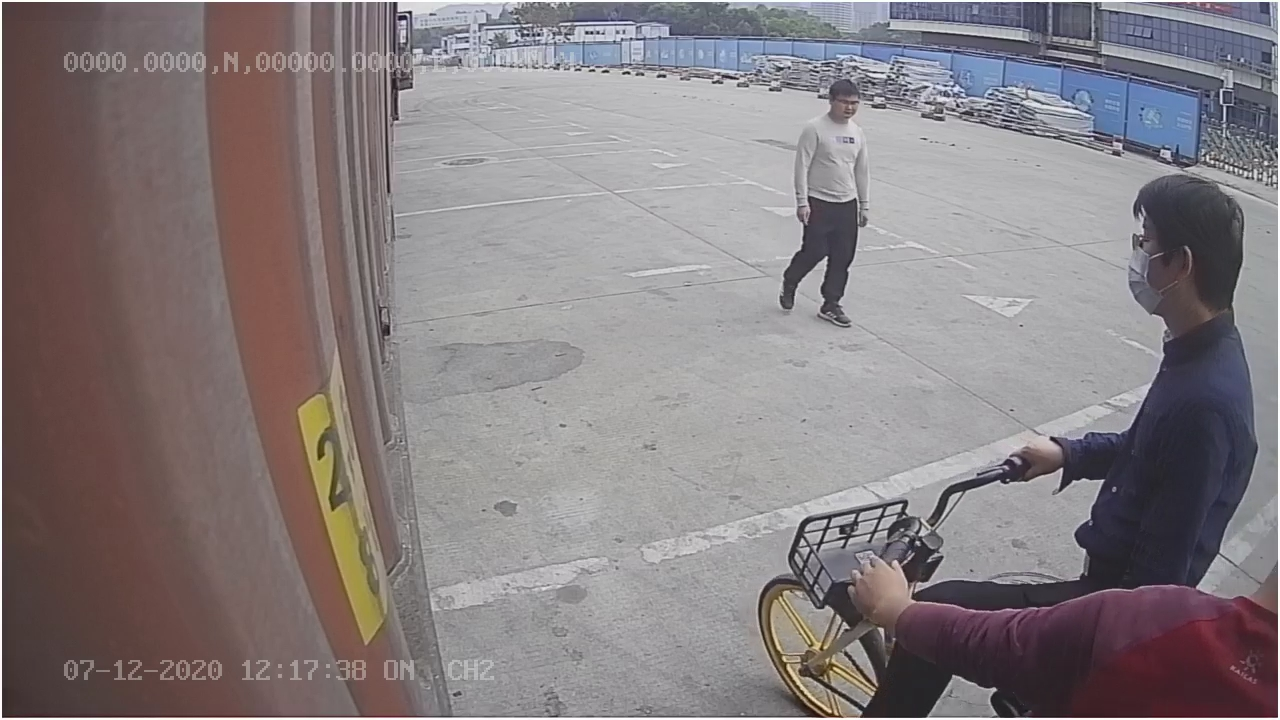person: (776, 79, 876, 327)
